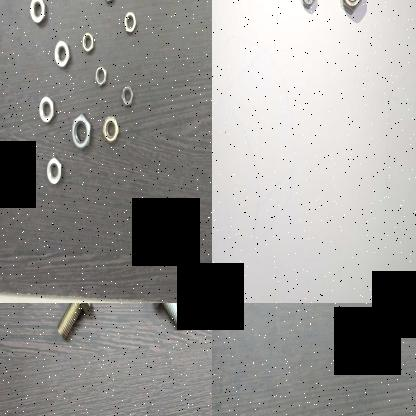Bolts: (54, 303, 98, 348), (150, 303, 189, 339)
NUTS: (68, 114, 92, 154), (36, 88, 58, 129), (42, 152, 64, 188), (102, 113, 122, 147), (339, 329, 358, 360), (339, 0, 367, 19), (30, 0, 46, 28), (54, 40, 70, 67), (122, 6, 136, 34), (94, 62, 108, 90), (121, 81, 134, 111), (81, 31, 96, 52), (296, 0, 318, 13), (103, 0, 116, 8)
